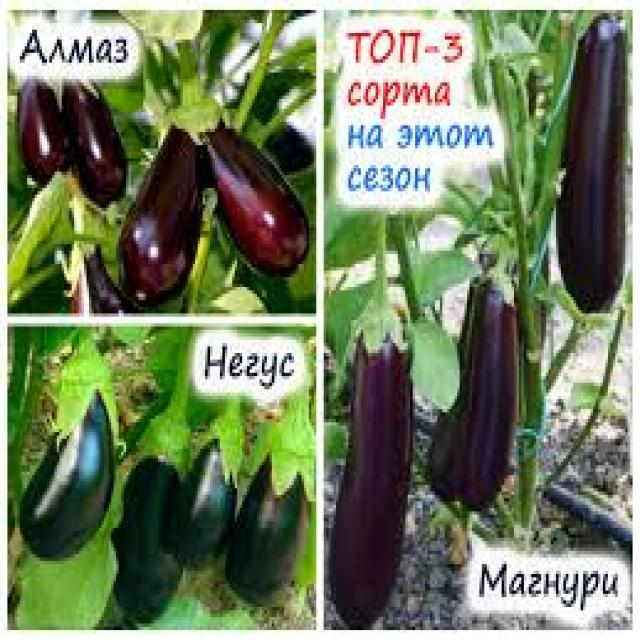eggplant: (527, 0, 640, 372), (329, 213, 429, 630), (442, 202, 551, 553), (181, 101, 313, 289), (26, 332, 129, 560), (174, 396, 271, 610), (118, 378, 199, 628), (237, 417, 331, 628), (118, 128, 212, 312), (51, 75, 135, 196), (8, 57, 66, 186)
